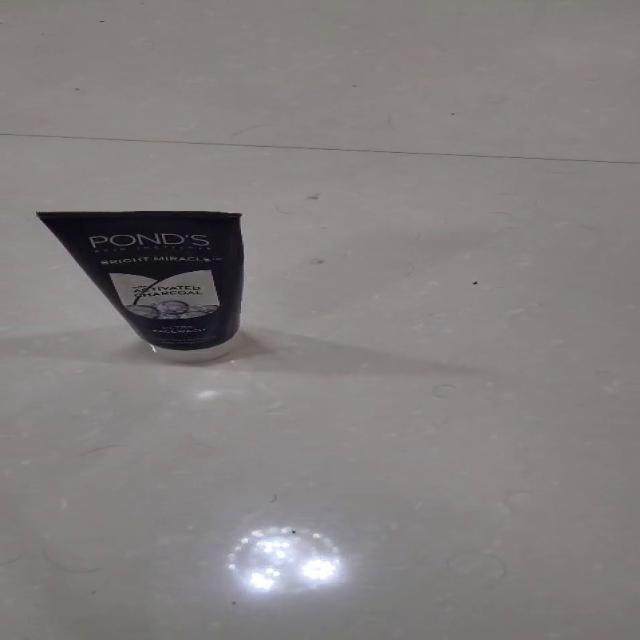plastic: (35, 210, 245, 362)
